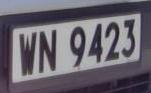2: (104, 16, 123, 67)
3: (120, 15, 138, 63)
4: (87, 17, 106, 70)
9: (68, 20, 89, 72)
N: (37, 27, 61, 79)
W: (16, 29, 40, 81)
